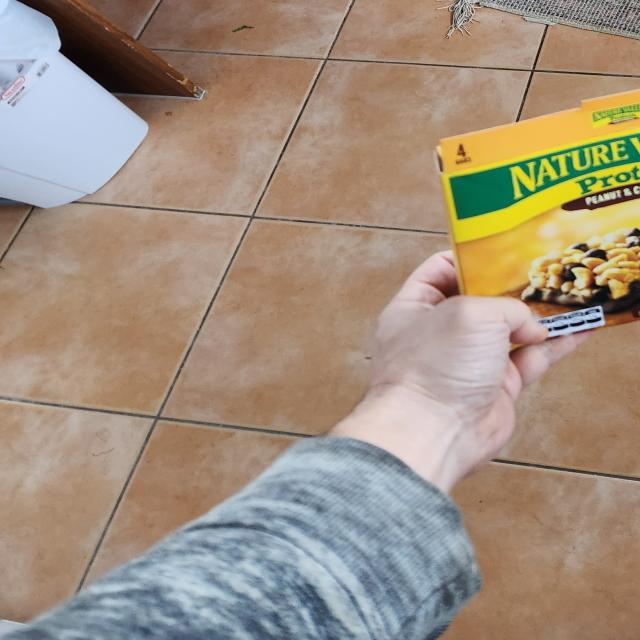muesli bars: (424, 77, 640, 346)
